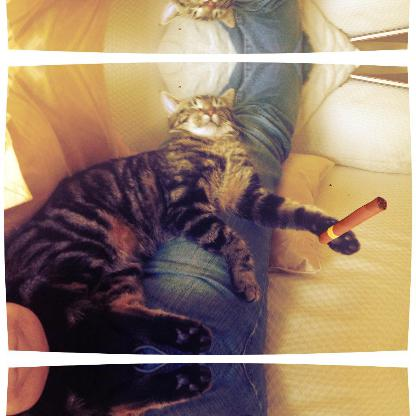Cat: (0, 88, 359, 359), (0, 359, 359, 415)
